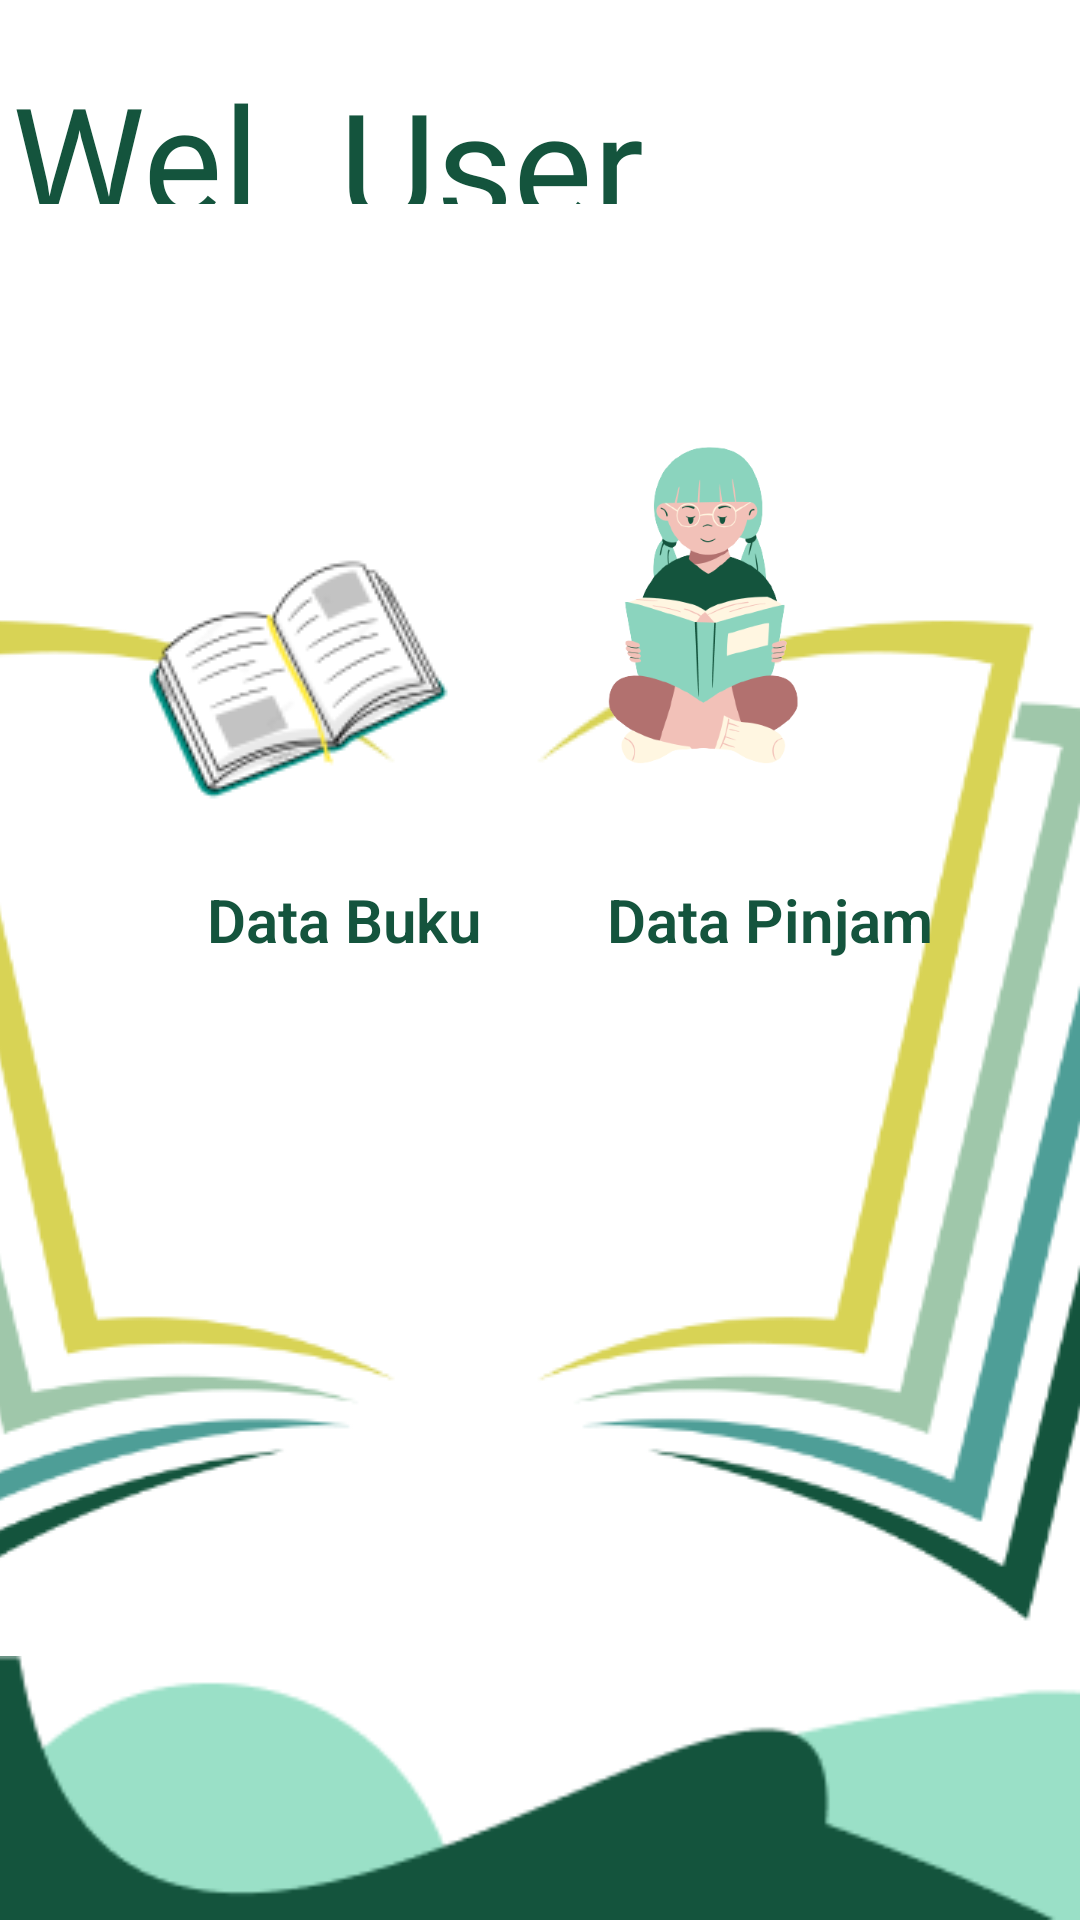

Icon click points for this 1080*1920 phone screenshot, format [x,y]:
peminjaaam: [709,605]
pngtree cartoon open book: [297,679]
